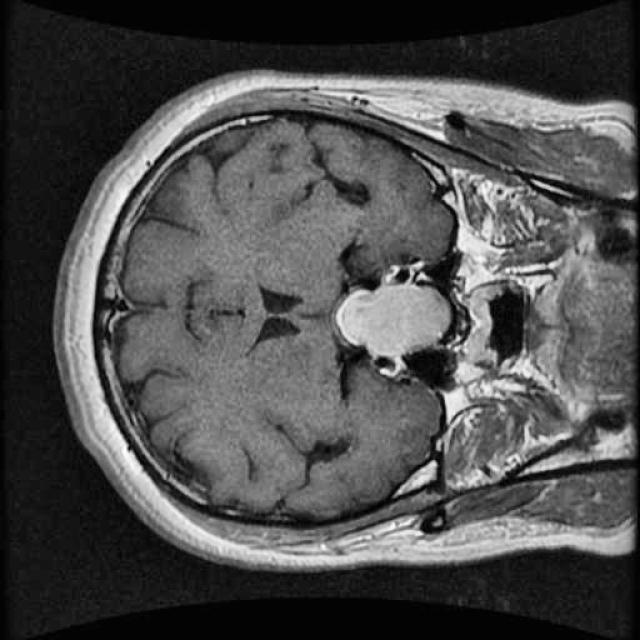Tumor: (322, 272, 460, 368)
